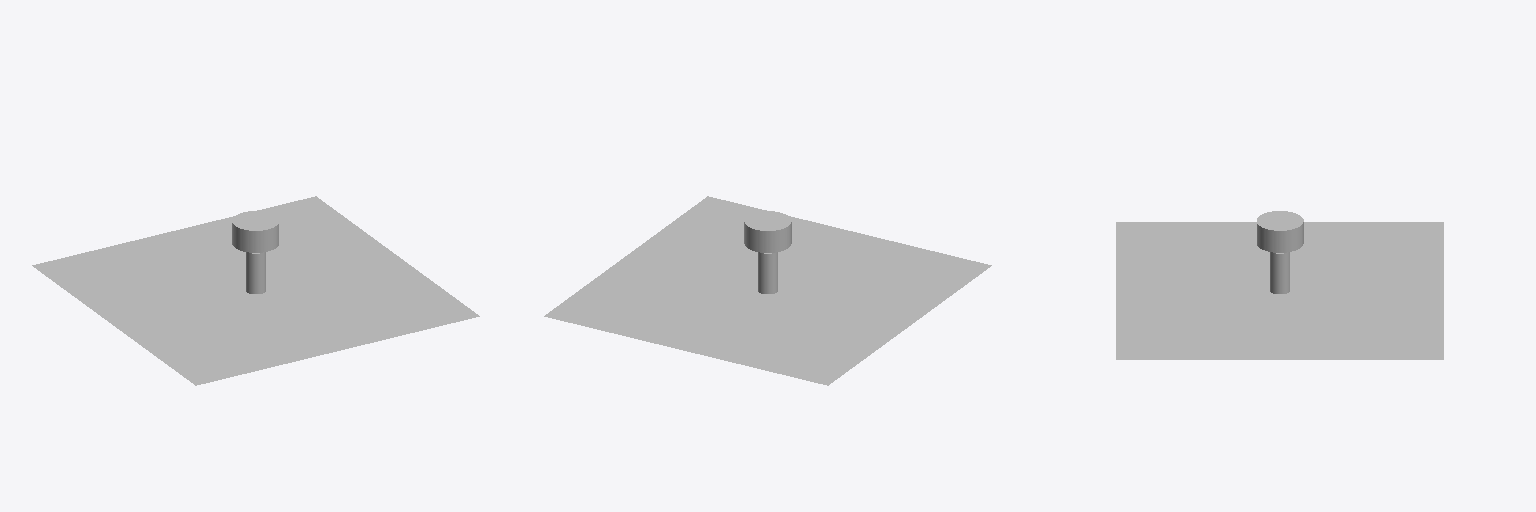
File: lamp.obj
3 views of the same model, side by side, from view 1: azimuth 30°, elevation 25°; view 2: azimuth 150°, elevation 25°; view 3: azimuth 270°, elevation 25° (orthographic).
Visible parts, largest first — view 1: Plane, Cylinder.002, Cylinder; view 2: Plane, Cylinder.002, Cylinder; view 3: Plane, Cylinder.002, Cylinder.
Boxes of the visible parts, x1,y1,x2,y2 form: Plane: [32, 196, 479, 385]; Cylinder.002: [232, 211, 278, 252]; Cylinder: [246, 255, 265, 293]; Plane: [544, 196, 991, 385]; Cylinder.002: [744, 211, 791, 252]; Cylinder: [758, 255, 777, 293]; Plane: [1116, 222, 1443, 359]; Cylinder.002: [1257, 211, 1303, 252]; Cylinder: [1270, 255, 1289, 293].
Bounding box in the file's own units: 32 × 7.53 × 32.